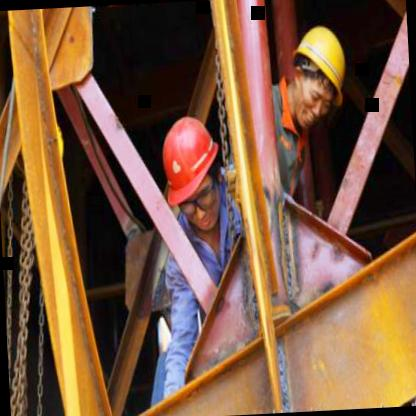helmet: (154, 108, 229, 230), (281, 16, 354, 131)
